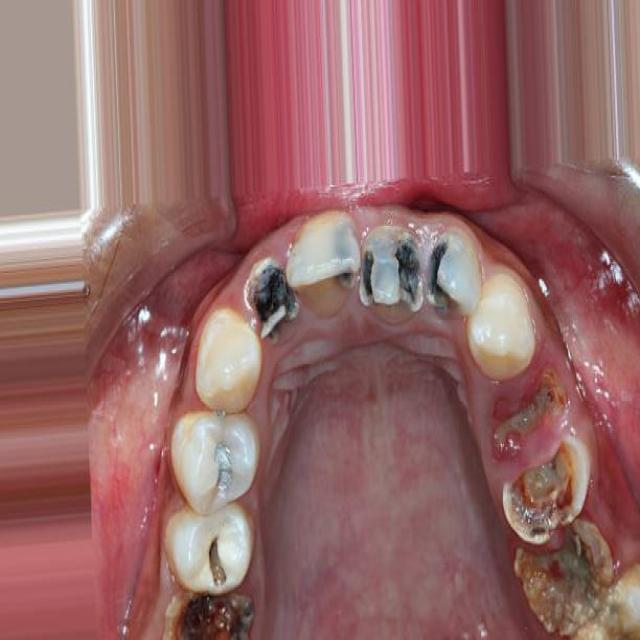caries: (493, 438, 588, 541), (518, 523, 603, 631), (168, 515, 252, 594), (159, 579, 255, 640), (364, 230, 422, 318), (244, 255, 298, 346), (193, 426, 250, 509), (491, 380, 558, 443), (422, 232, 472, 316), (322, 230, 360, 314)
